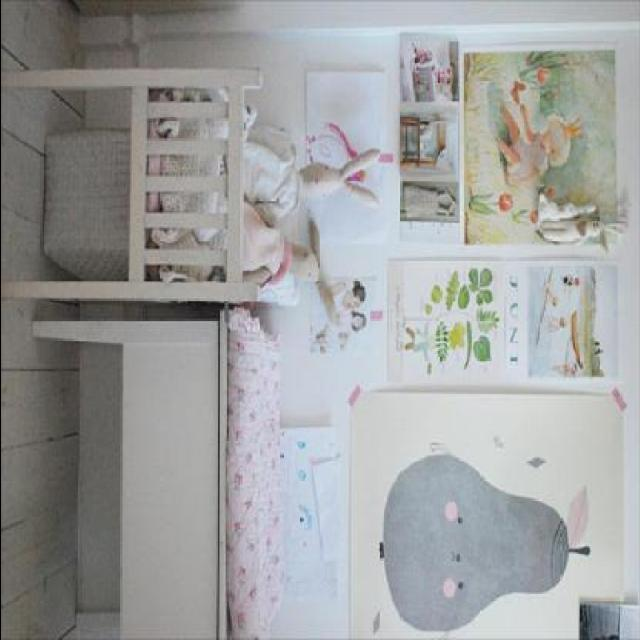Pear: (379, 448, 567, 634)
